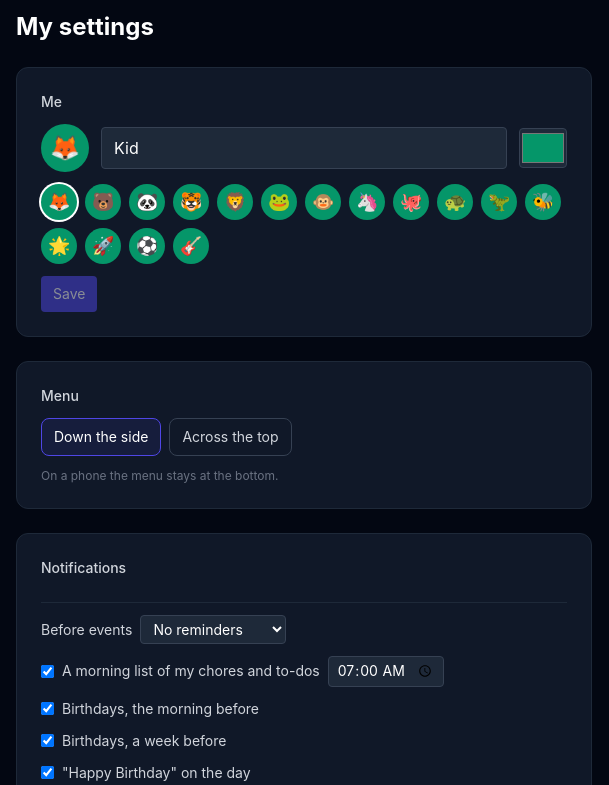
Scenario: MySettings › shows when a preference could not be saved
Click the radio button labelled "Across the top" at (230, 437), box [169, 418, 292, 456]
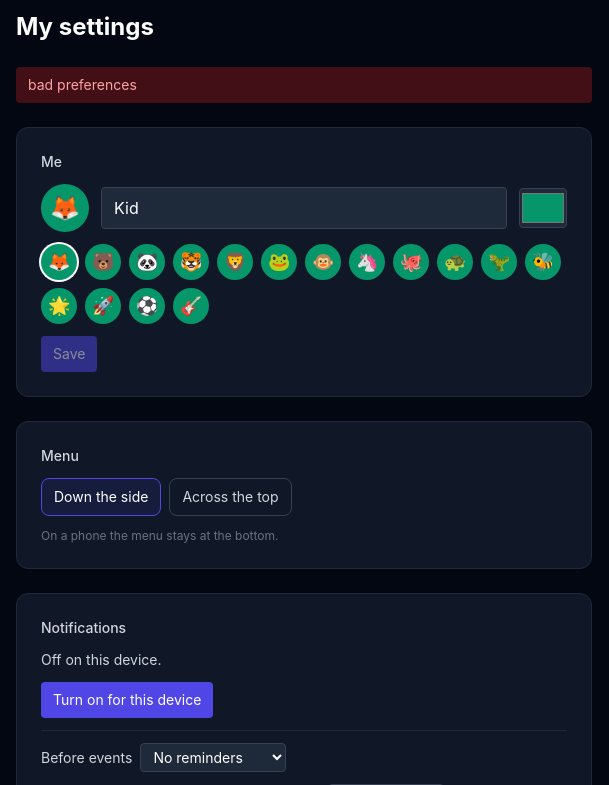
Now the text "bad preferences" is shown, box [16, 67, 592, 103]
